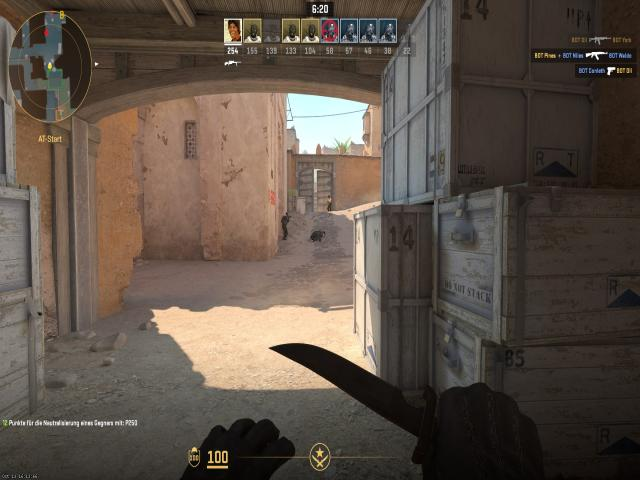CT: (282, 211, 290, 241)
CT-Head: (285, 212, 289, 218)
Dead: (311, 229, 326, 240)
T: (327, 195, 332, 211)
T-Head: (328, 195, 330, 199)
